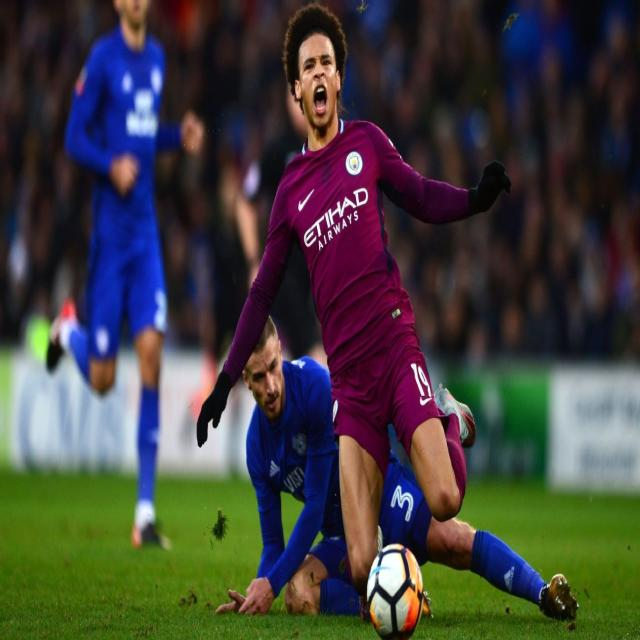collide: (341, 419, 396, 562)
hurt: (300, 33, 336, 126)
possible foul: (191, 28, 573, 613)
